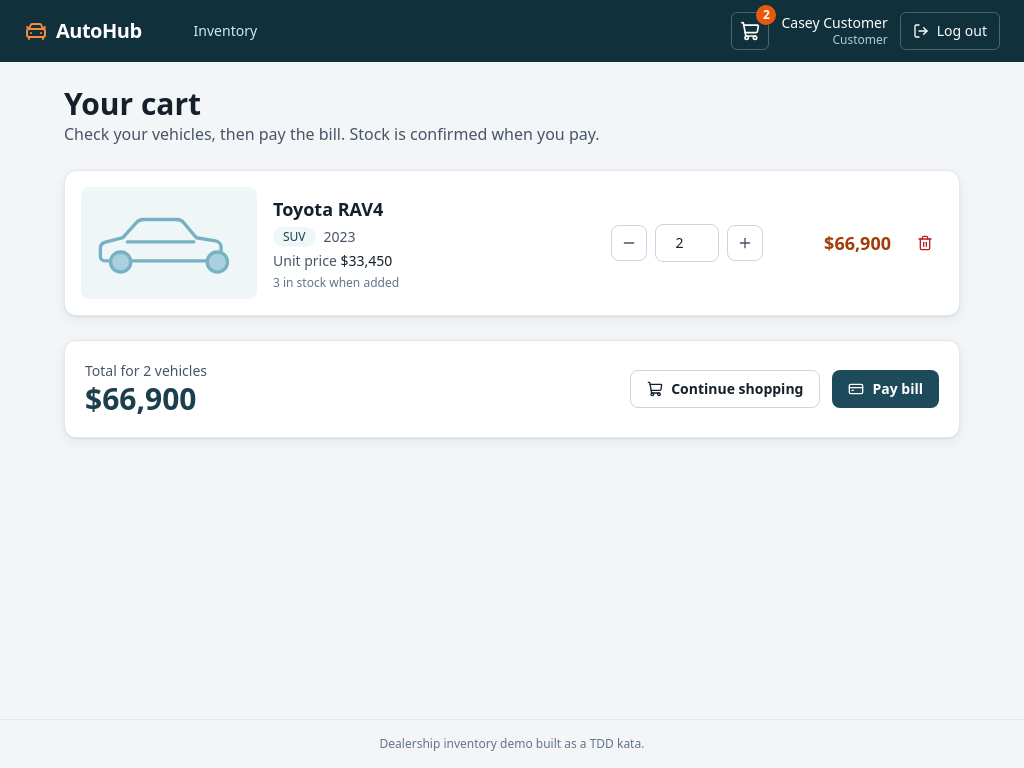
Scenario: Cart page › can change quantity within the stock that was available, and remove items
The image size is (1024, 768).
Click the button named "Increase quantity of Toyota RAV4".
click(745, 243)  # box [727, 225, 763, 261]
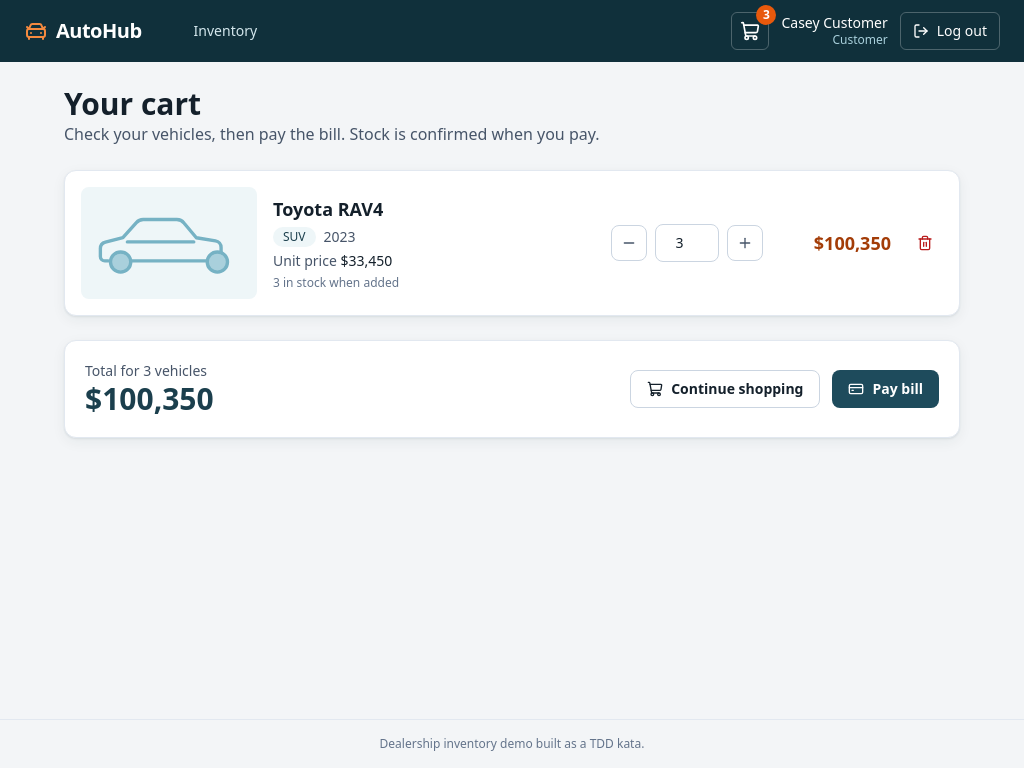
expect the number field named "Cart quantity for Toyota RAV4" holds "3": met, box [655, 224, 719, 262]
Click the button named "Decrease quantity of Toyota RAV4".
click(629, 243)  # box [611, 225, 647, 261]
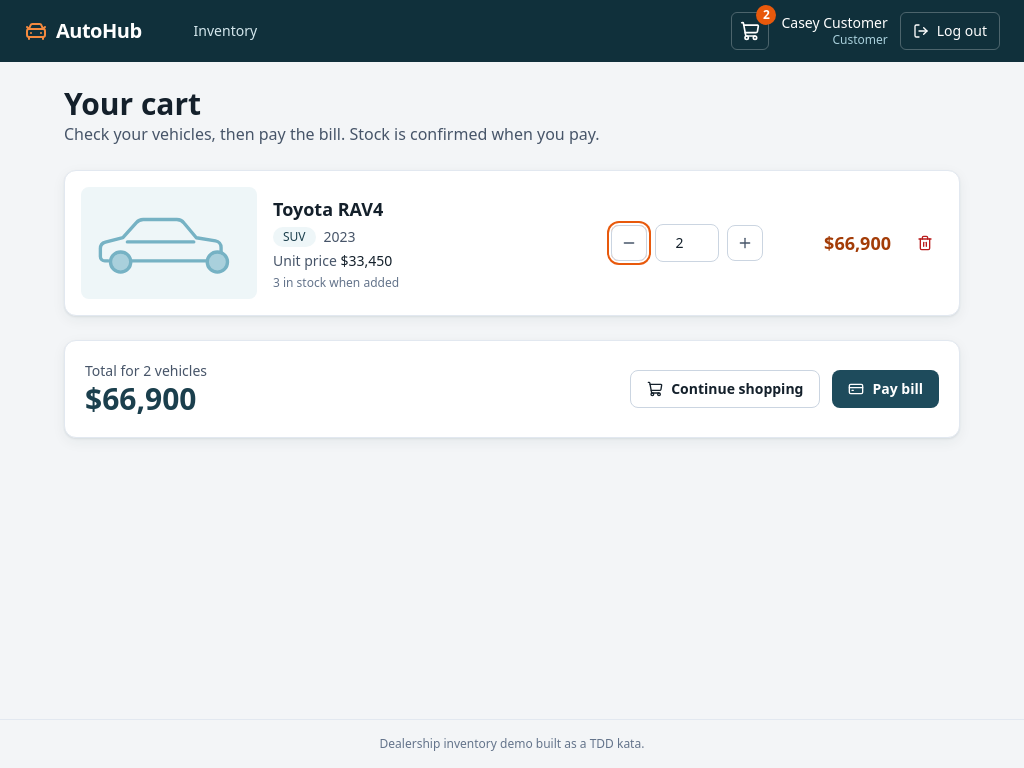
expect the number field named "Cart quantity for Toyota RAV4" holds "2": met, box [655, 224, 719, 262]
Click the button named "Remove Toyota RAV4 from cart".
click(925, 243)  # box [907, 225, 943, 261]
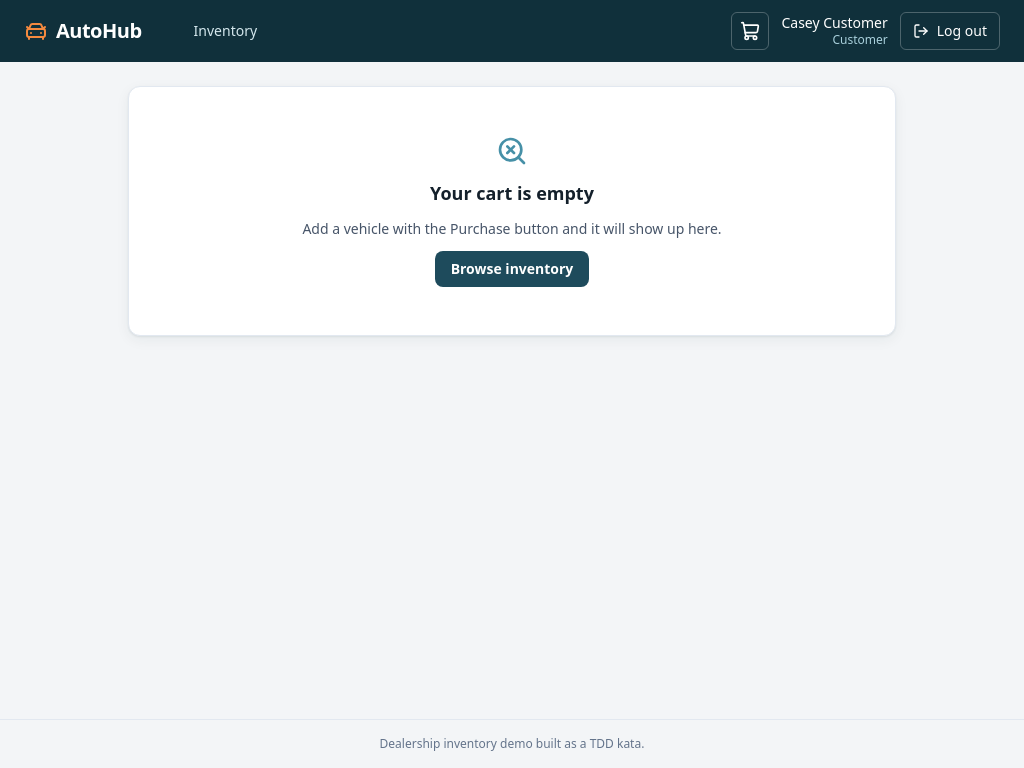
expect the heading "Your cart is empty" is shown: met, box [430, 179, 594, 207]
